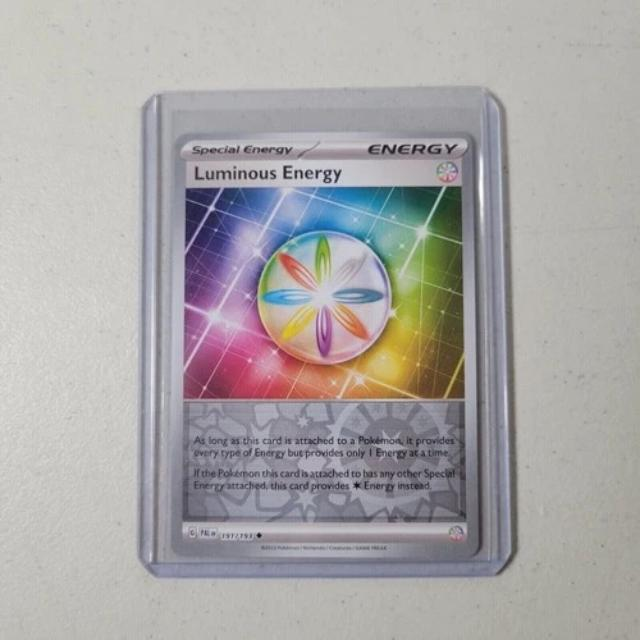Card: (163, 127, 487, 563)
Name: (186, 163, 348, 191)
